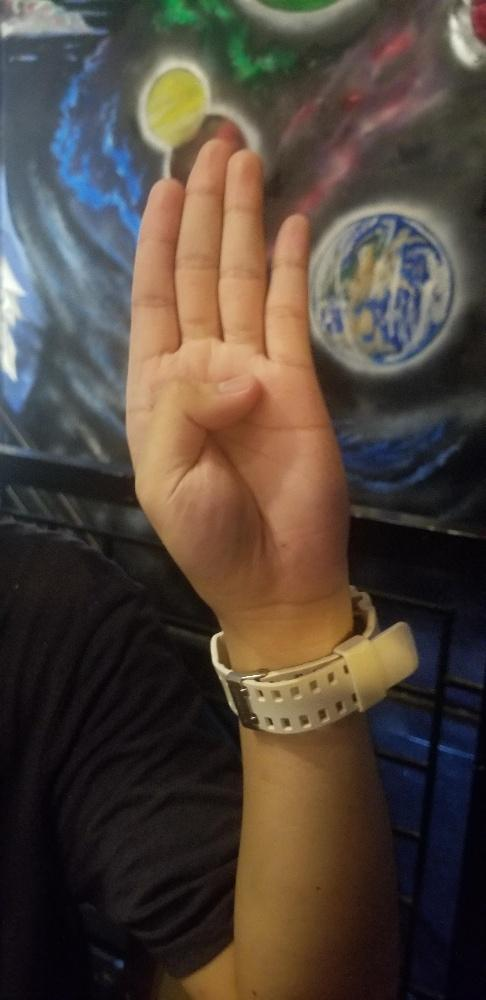b: (122, 135, 351, 596)
